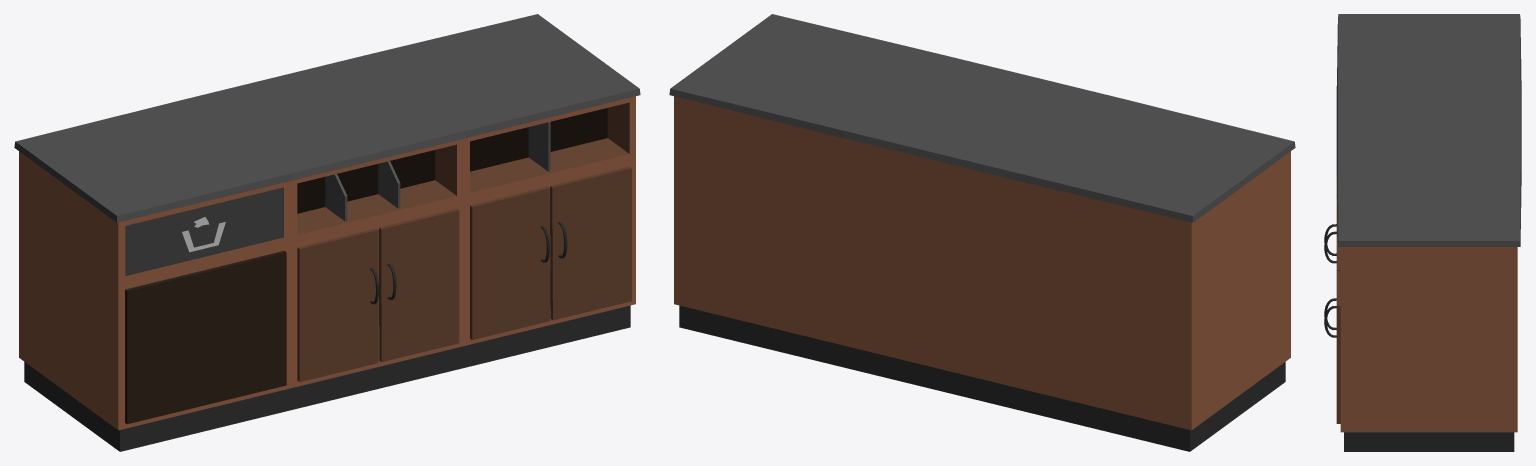
File: Small Counter w_Garbages Brown.fbx
The picture shows the model from 3 angles, left to right: view 1: azimuth 30°, elevation 25°; view 2: azimuth 150°, elevation 25°; view 3: azimuth 270°, elevation 25°; orthographic projection. The views are drawn at different scales.
Visible parts, largest first — view 1: Small Counter w_Garbages Brown; view 2: Small Counter w_Garbages Brown; view 3: Small Counter w_Garbages Brown.
Boxes of the visible parts, x1,y1,x2,y2 form: Small Counter w_Garbages Brown: [14, 14, 640, 451]; Small Counter w_Garbages Brown: [669, 14, 1295, 451]; Small Counter w_Garbages Brown: [1324, 14, 1521, 451].
Bounding box in the file's own units: 227 × 99.37 × 83.12.
1 material, 1 textured.
